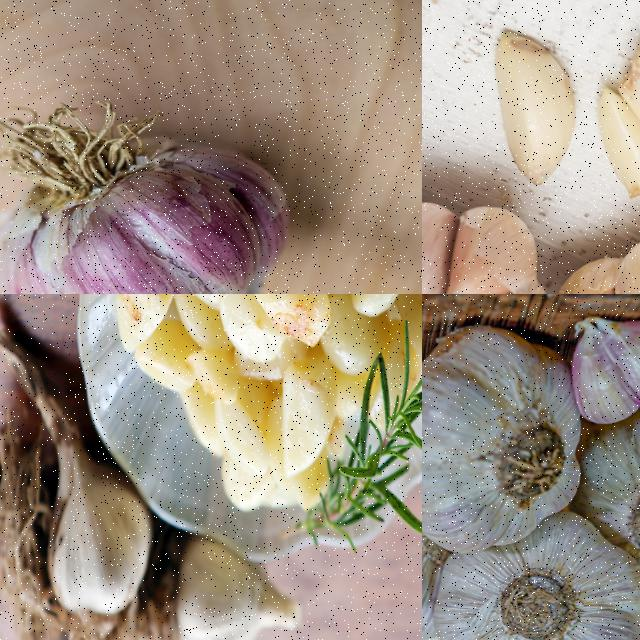garlic: (109, 294, 421, 520), (0, 98, 294, 293), (422, 327, 585, 554), (432, 516, 639, 639), (42, 413, 153, 619), (554, 403, 639, 618), (164, 516, 305, 639), (492, 28, 578, 188), (422, 185, 548, 293), (422, 470, 468, 639), (573, 308, 639, 425), (591, 78, 639, 200)
